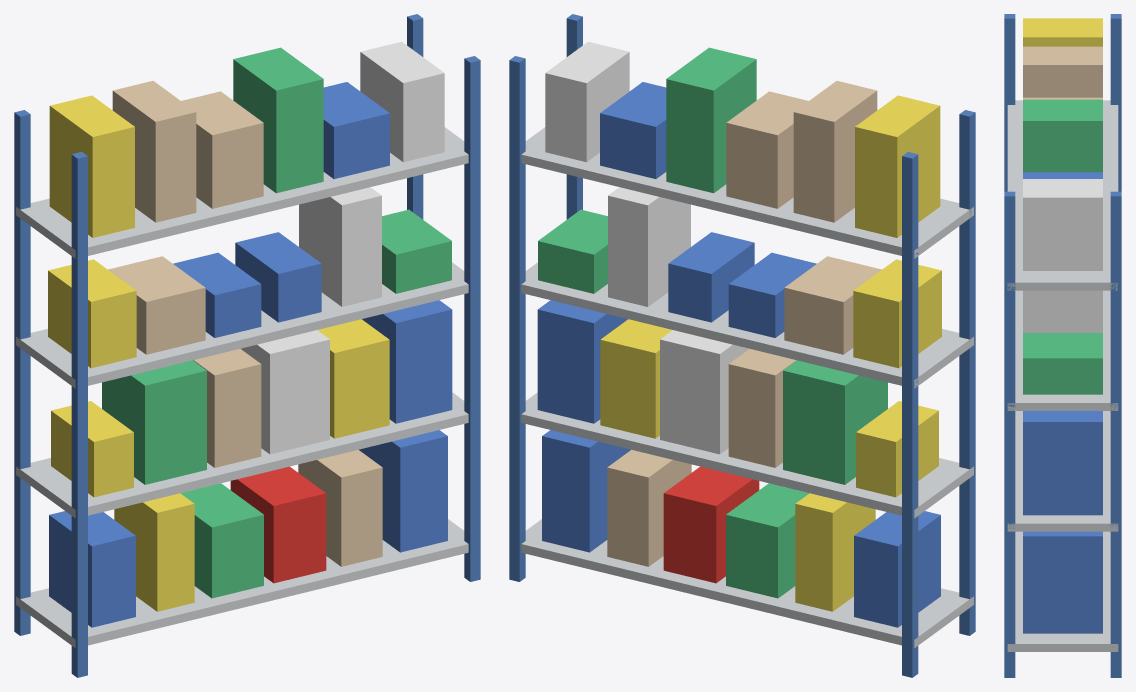
The model's file is shelving_unit.glb.
The picture shows the model from 3 angles, left to right: view 1: azimuth 30°, elevation 25°; view 2: azimuth 150°, elevation 25°; view 3: azimuth 270°, elevation 25°; orthographic projection. The views are drawn at different scales.
Visible parts, largest first — view 1: shelving_unit; view 2: shelving_unit; view 3: shelving_unit.
Part boxes in pixels (left/top/right/bottom): shelving_unit: left=14, top=14, right=480, bottom=677; shelving_unit: left=509, top=14, right=975, bottom=677; shelving_unit: left=1004, top=14, right=1121, bottom=677.
Bounding box in the file's own units: 1.95 × 2.44 × 0.53.
